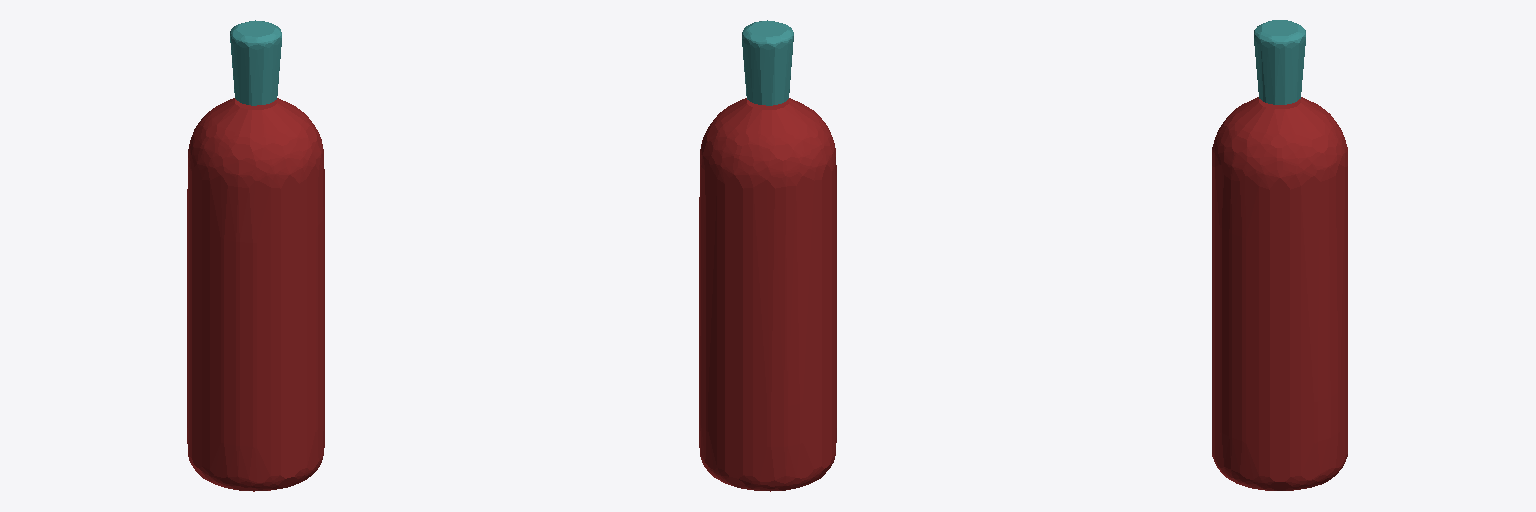
robot.urdf — root:
<robot name="root">
  <link name="bottle_body">
    <inertial>
      <origin xyz="0 0 0" rpy="0 0 0"/>
    </inertial>
    <mass value="1.00E-02"/>
    <visual>
      <origin xyz="0 0 0" rpy="0 0 0"/>
      <geometry>
        <mesh filename="core-bottle-9f50b2ddbcc2141cfa20324e30e0bf40-coacd_convex_piece_1.obj" scale="1.0000E-01 1.0000E-01 1.0000E-01"/>
      </geometry>
      <material name="">
        <color rgba="6.00E-01 2.00E-01 2.00E-01 1"/>
      </material>
    </visual>
    <collision>
      <origin xyz="0 0 0" rpy="0 0 0"/>
      <geometry>
        <mesh filename="core-bottle-9f50b2ddbcc2141cfa20324e30e0bf40-coacd_convex_piece_1.obj" scale="1.0000E-01 1.0000E-01 1.0000E-01"/>
      </geometry>
    </collision>
  </link>
  <link name="bottle_cap">
    <origin xyz="0 0 0.002" rpy="0 0 0"/>
    <mass value="1.00E-02"/>
    <visual>
      <origin xyz="0 0 0.002" rpy="0 0 0"/>
      <geometry>
        <mesh filename="core-bottle-9f50b2ddbcc2141cfa20324e30e0bf40-coacd_convex_piece_0.obj" scale="1.0000E-01 1.0000E-01 1.0000E-01"/>
      </geometry>
      <material name="">
        <color rgba="3.00E-01 6.00E-01 6.00E-01 1"/>
      </material>
    </visual>
    <collision>
      <origin xyz="0 0 0.002" rpy="0 0 0"/>
      <geometry>
        <mesh filename="core-bottle-9f50b2ddbcc2141cfa20324e30e0bf40-coacd_convex_piece_0.obj" scale="1.0000E-01 1.0000E-01 1.0000E-01"/>
      </geometry>
    </collision>
  </link>
  <joint name="bottle_cap_joint" type="revolute">
    <origin xyz="0 0 0" rpy="0 0 0"/>
    <parent link="bottle_body"/>
    <child link="bottle_cap"/>
    <axis xyz="0 0 1"/>
    <limit lower="0.00" upper="6.28"/>
    <dynamics damping="0.05"/>
  </joint>
</robot>

--- Facts derived from the render (not from the file) ---
Views: 3 orthographic renders of the robot side by side, from view 1: azimuth 30°, elevation 25°; view 2: azimuth 150°, elevation 25°; view 3: azimuth 270°, elevation 25°.
Robot: root — 2 links, 1 joints (1 revolute); root link bottle_body; default pose: all joints at 0.
Visible links, largest first — view 1: bottle_body, bottle_cap; view 2: bottle_body, bottle_cap; view 3: bottle_body, bottle_cap.
Link boxes in pixels (x1=…): bottle_body: x1=187, y1=98, x2=324, y2=491; bottle_cap: x1=230, y1=20, x2=281, y2=105; bottle_body: x1=699, y1=98, x2=836, y2=491; bottle_cap: x1=742, y1=20, x2=793, y2=105; bottle_body: x1=1212, y1=97, x2=1347, y2=490; bottle_cap: x1=1254, y1=20, x2=1305, y2=104.
Size in the robot's own frame: 0.0542 by 0.0542 by 0.1939 metres.
2 mesh visuals loaded from 2 distinct referenced files (2 OBJ).